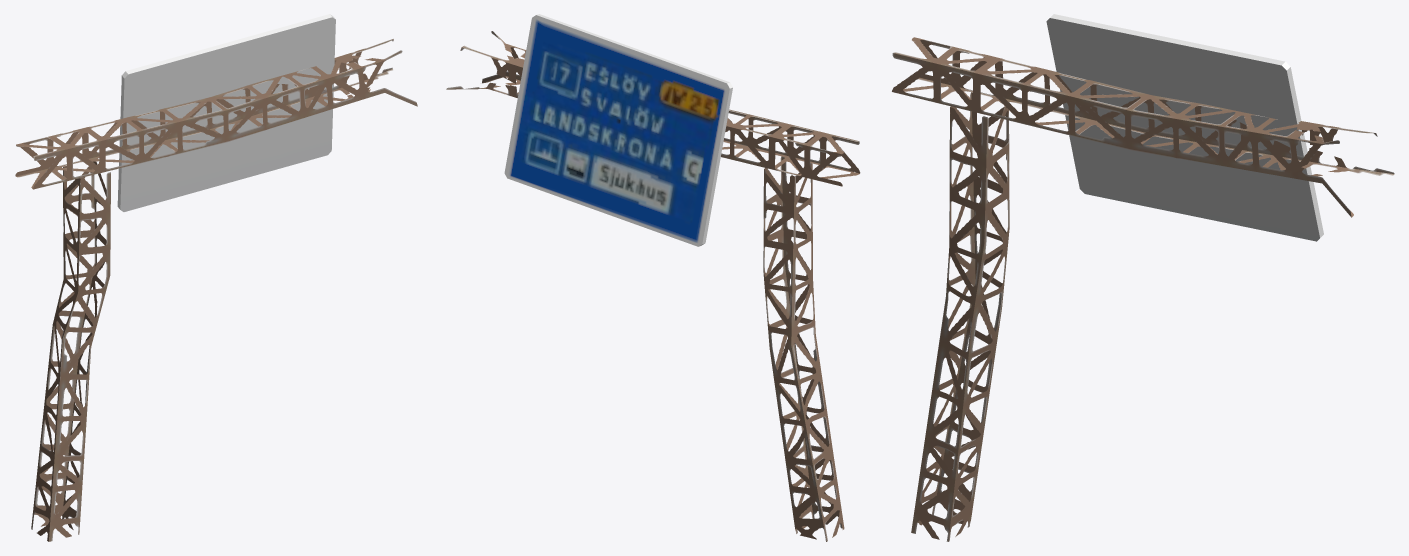
Rendered from mdl_roadSign.fbx.
3 renders of one model, left to right at view 1: azimuth 30°, elevation 25°; view 2: azimuth 150°, elevation 25°; view 3: azimuth 330°, elevation 25°, orthographic. The views are drawn at different scales.
Parts seen in each view (by area): view 1: mdl_roadSign, Sigh; view 2: Sigh, mdl_roadSign; view 3: mdl_roadSign, Sigh.
Part boxes in pixels (left/top/right/bottom): mdl_roadSign: left=15, top=39, right=417, bottom=541; Sigh: left=117, top=14, right=335, bottom=211; Sigh: left=504, top=14, right=732, bottom=246; mdl_roadSign: left=446, top=31, right=860, bottom=541; mdl_roadSign: left=892, top=37, right=1394, bottom=541; Sigh: left=1046, top=14, right=1323, bottom=241.
Bounding box in the file's own units: 5.17 × 5.72 × 0.951.
